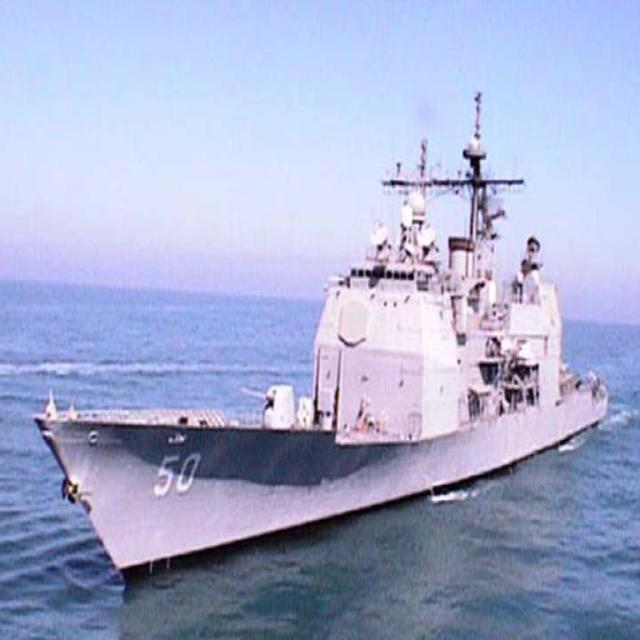navalvessels: (34, 83, 614, 582)
